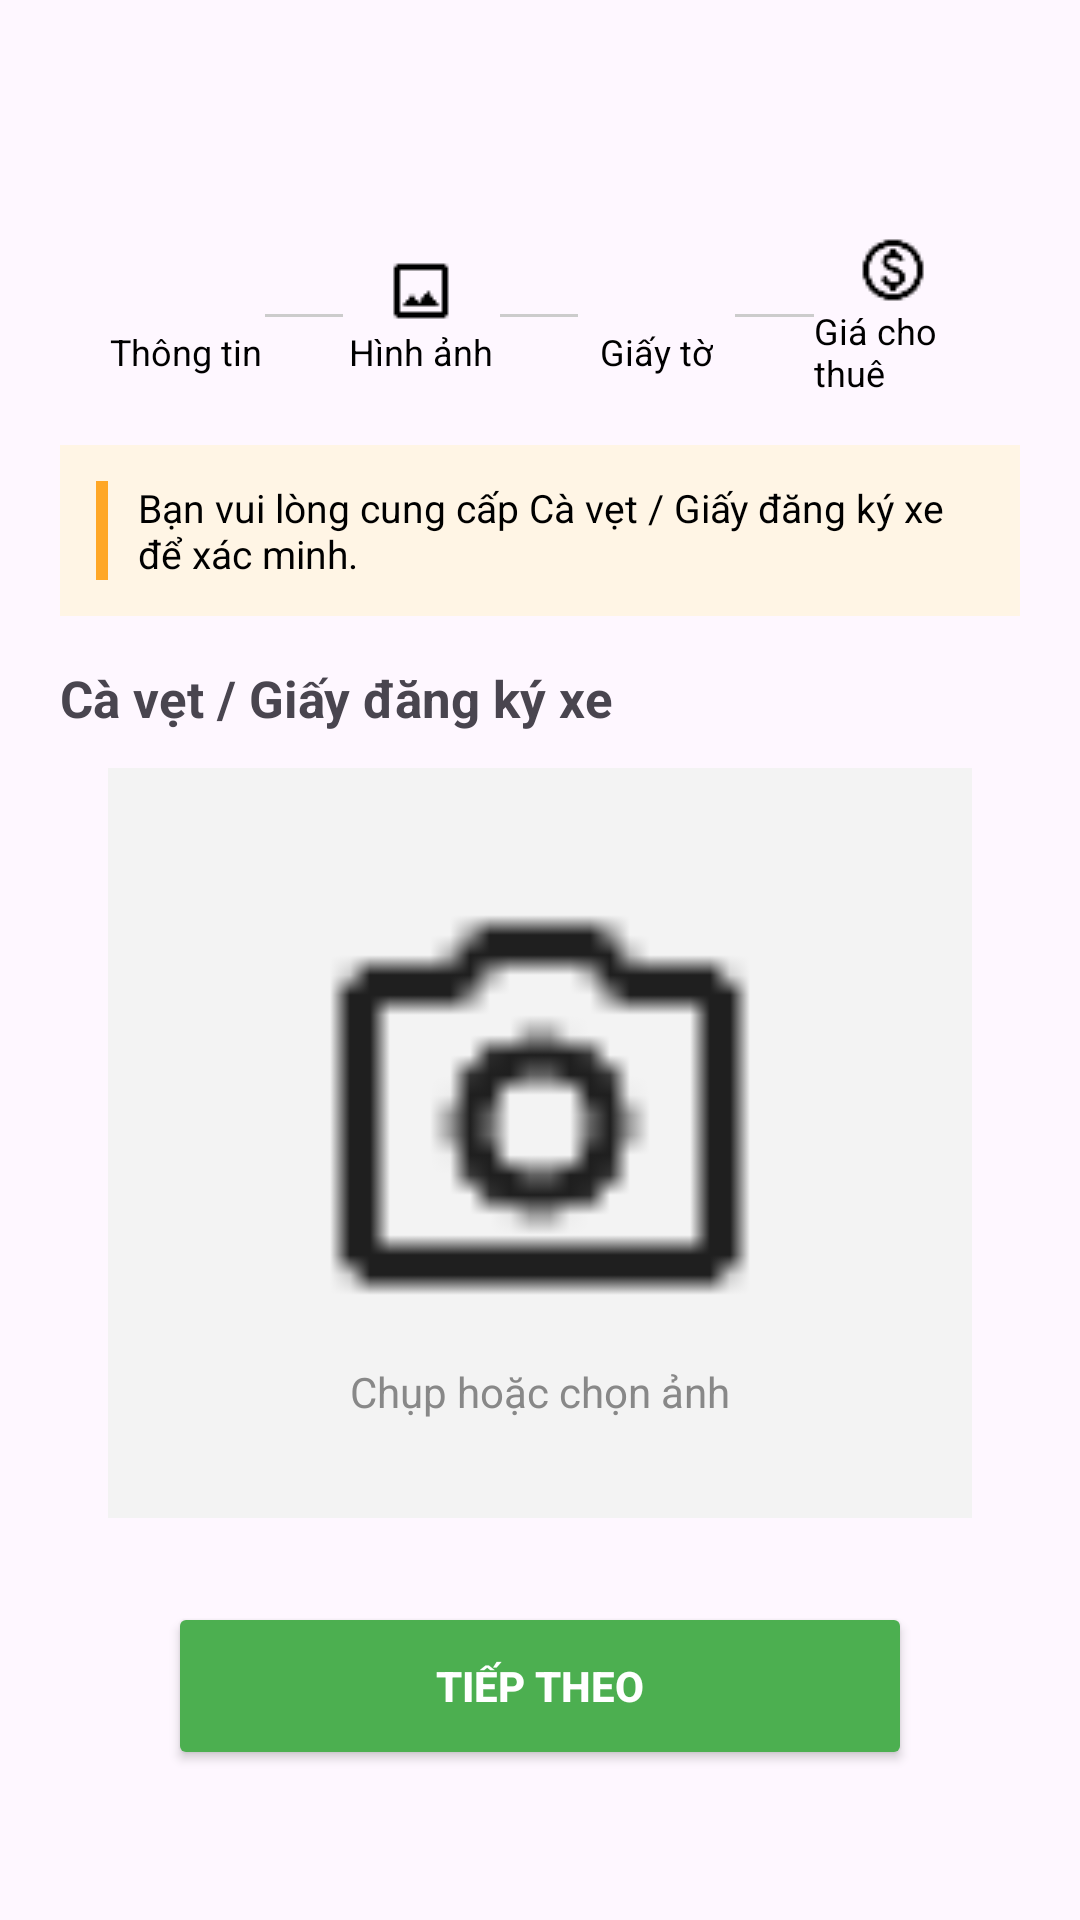

Locate icon controls on the screen. Image size 1080x1920, boxes as (x1, y1, x2, y2).
money: (862, 239, 924, 301)
